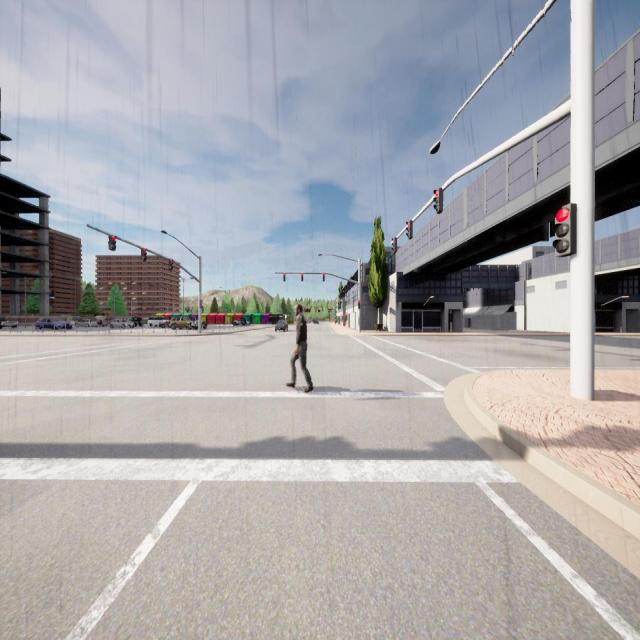Pedestrian: (286, 304, 313, 393)
Vehicle: (35, 317, 72, 330), (170, 315, 192, 330), (109, 318, 135, 329), (147, 316, 169, 328), (0, 316, 20, 329), (74, 317, 97, 328), (275, 319, 288, 332), (191, 320, 207, 330), (97, 317, 108, 328), (232, 318, 246, 326), (132, 317, 142, 327), (158, 321, 170, 329), (313, 319, 319, 325)
traffic_light: (552, 203, 577, 257), (433, 188, 443, 213), (406, 220, 412, 240), (109, 235, 116, 251), (141, 248, 147, 261), (392, 238, 397, 253), (168, 259, 174, 270), (283, 273, 286, 281), (200, 300, 203, 308), (301, 272, 303, 282), (358, 300, 360, 309), (322, 273, 324, 281)
